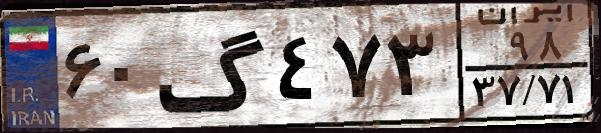0: (110, 28, 156, 98)
1: (560, 70, 590, 125)
3: (385, 28, 445, 110), (470, 70, 495, 125)
4: (270, 28, 330, 110)
6: (57, 26, 110, 100)
7: (330, 28, 385, 110), (495, 70, 520, 125), (535, 70, 560, 125)
8: (537, 27, 568, 80)
9: (508, 27, 537, 80)
گ: (156, 12, 270, 120)
